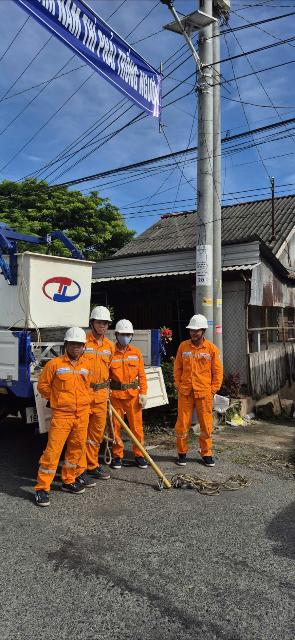gloves: (138, 390, 147, 409)
harness: (105, 375, 143, 393), (86, 373, 116, 395)
helmet: (54, 322, 89, 347), (108, 313, 140, 337), (85, 300, 112, 326), (183, 316, 209, 336)
shoes: (56, 477, 84, 501), (29, 487, 54, 510), (89, 458, 112, 483), (73, 464, 96, 487), (106, 448, 126, 472), (196, 449, 218, 470), (127, 449, 150, 469), (171, 447, 189, 469)
